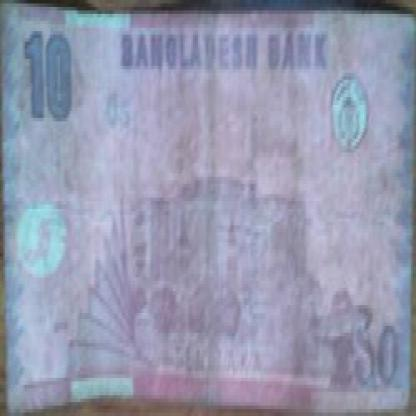Ten Taka: (16, 24, 94, 132), (350, 319, 400, 402)
